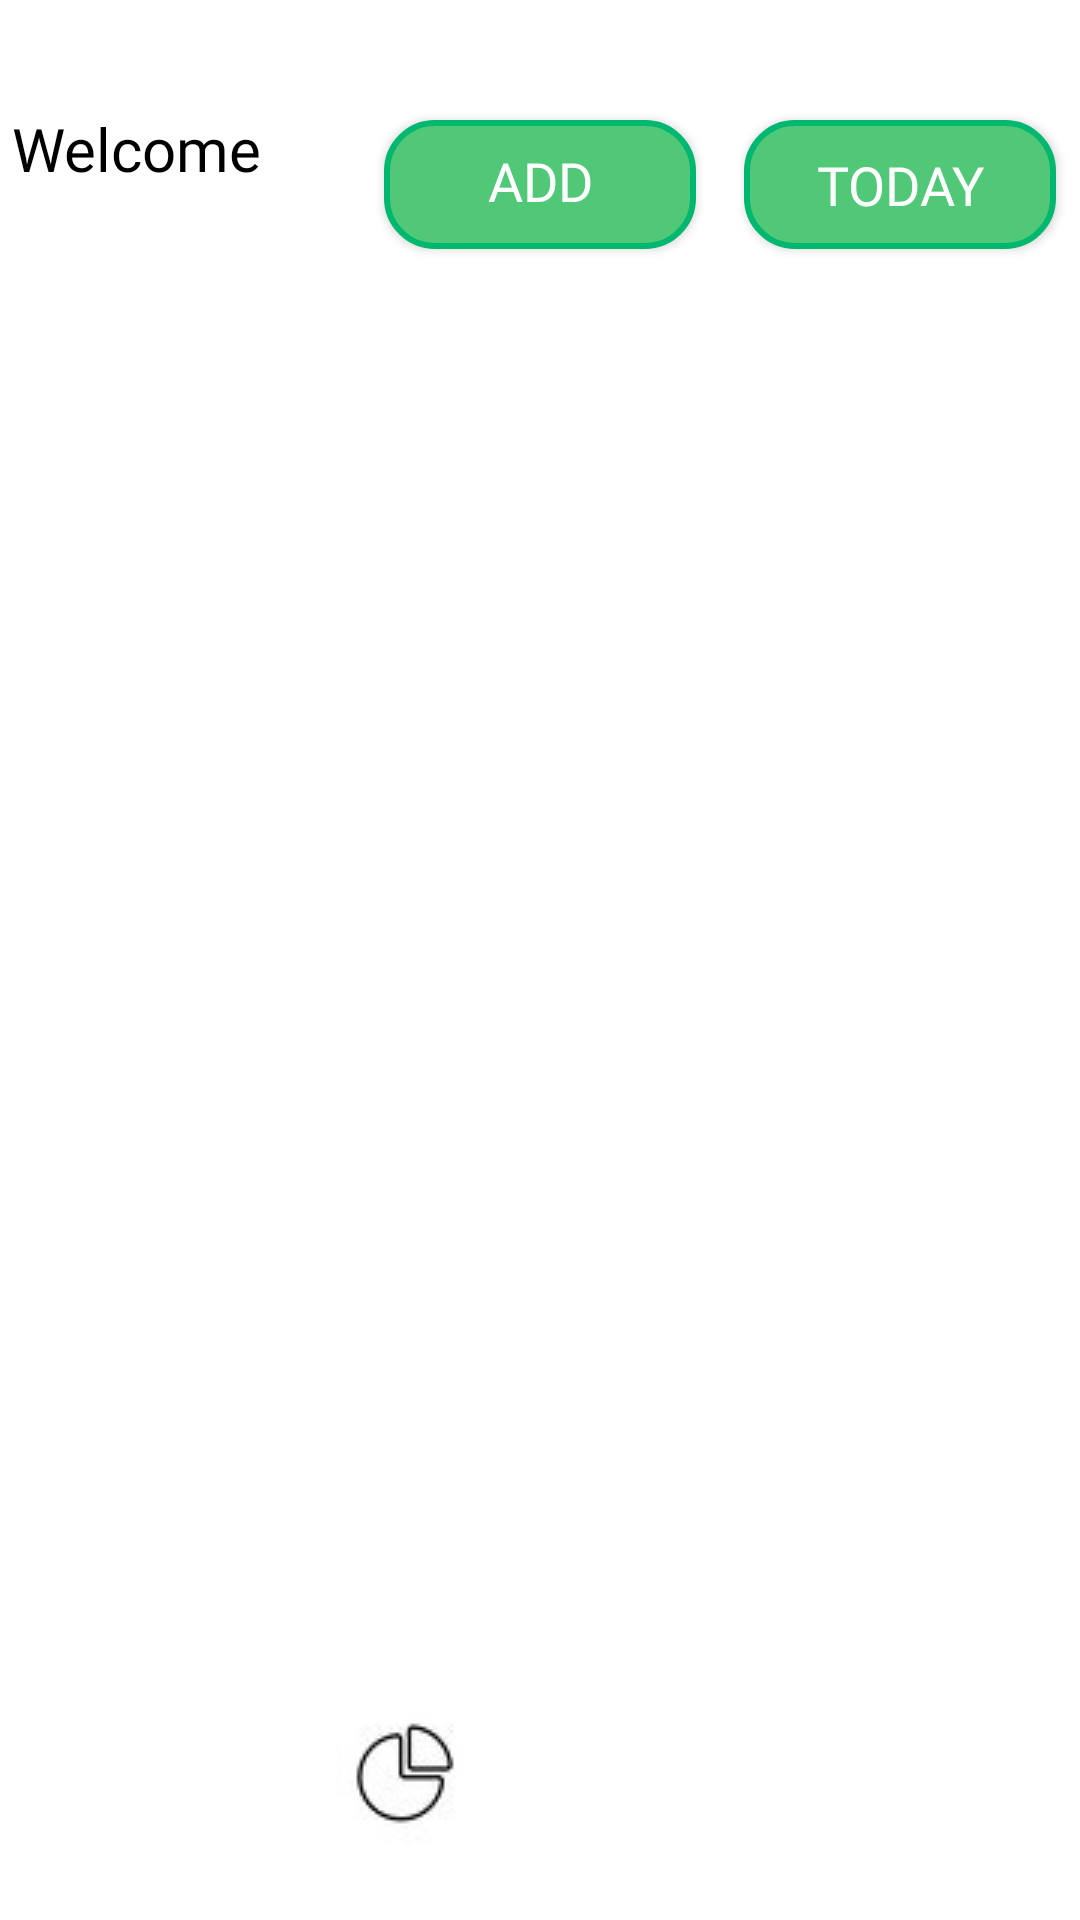

Icons on this 1080px×1920px Android screen, each with the point to tap as (x=x, y=y):
pie: (x=405, y=1773)
